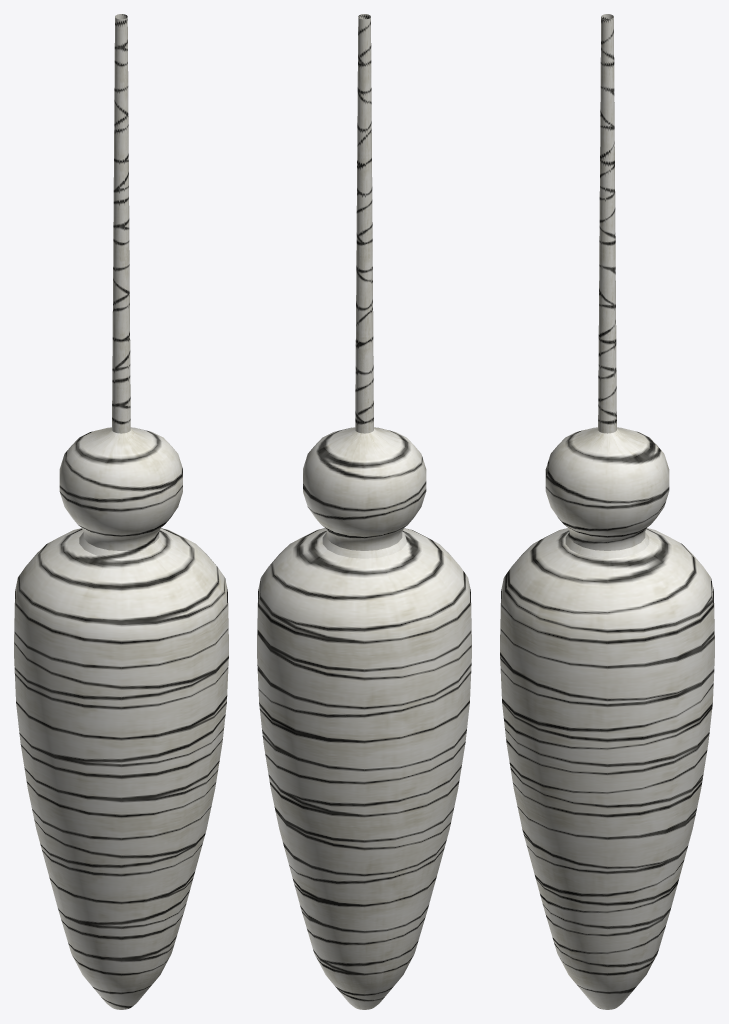
The model's file is CorporMummy_03.FBX.
The picture shows the model from 3 angles, left to right: view 1: azimuth 30°, elevation 25°; view 2: azimuth 150°, elevation 25°; view 3: azimuth 270°, elevation 25°; orthographic projection.
Visible parts, largest first — view 1: Cylinder001; view 2: Cylinder001; view 3: Cylinder001.
Boxes of the visible parts, x1,y1,x2,y2 form: Cylinder001: (14,14,228,1009); Cylinder001: (257,14,471,1009); Cylinder001: (500,14,714,1009).
Bounding box in the file's own units: 74.4 × 372 × 73.27.
